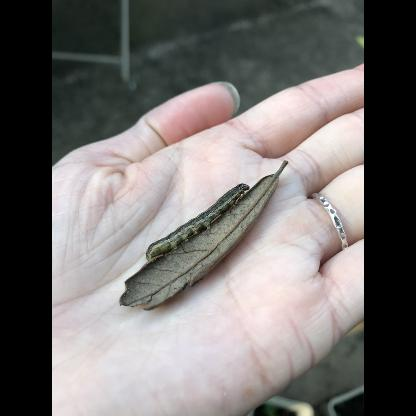Fall Armyworm Larvae: (143, 181, 252, 264)
